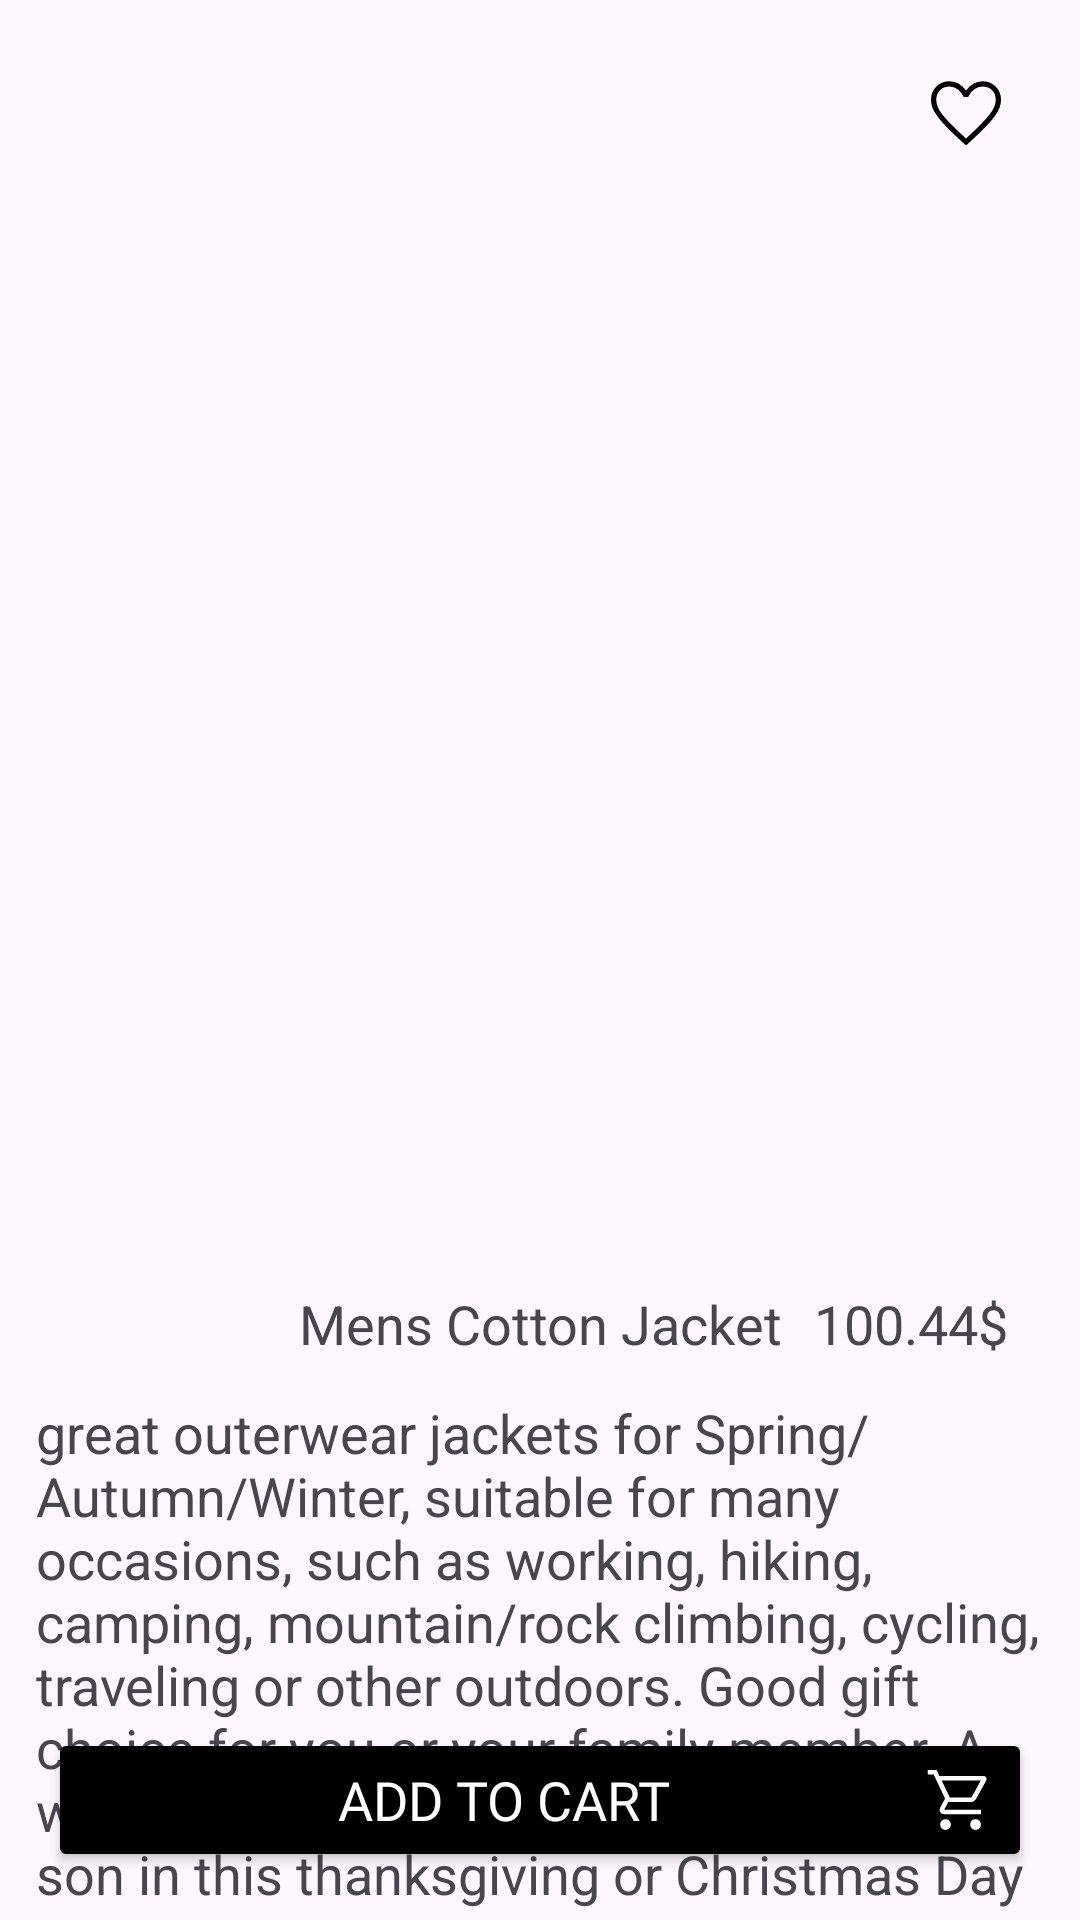

Named icons in this screenshot (1080×1920) and their bounding boxes, (x1, y1, x2, y2):
add product to favorite: (931, 81, 1001, 145)
